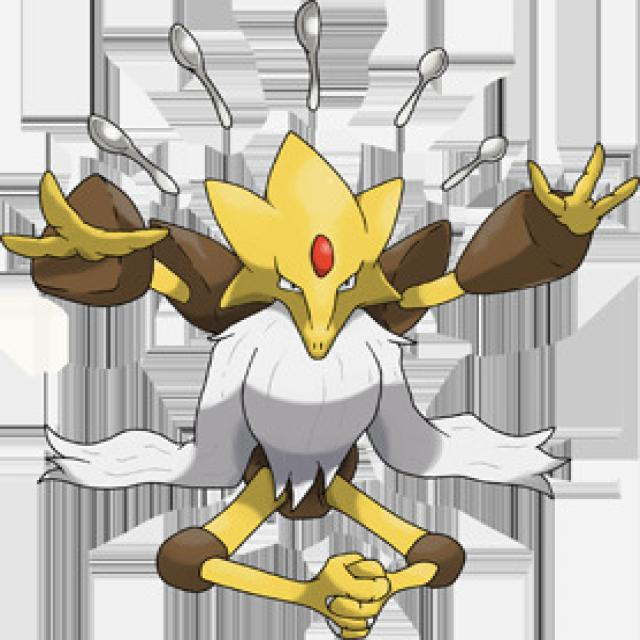Alakazam: (112, 142, 517, 606)
